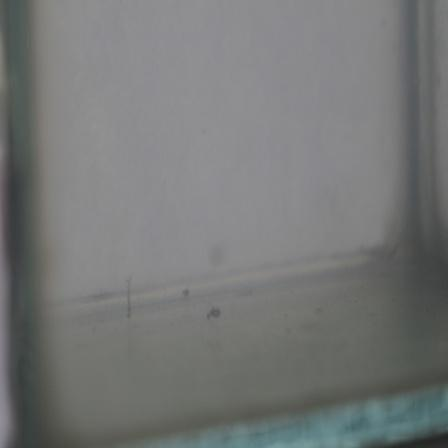Jentik-Nyamuk: (121, 272, 135, 320)
